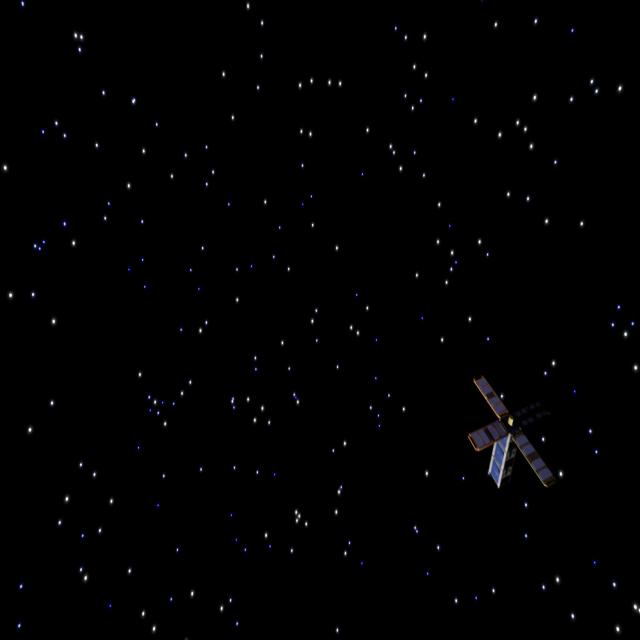satellite: (467, 371, 559, 504)
